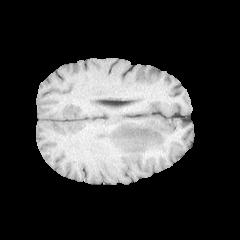glioma: (105, 120, 169, 162)
